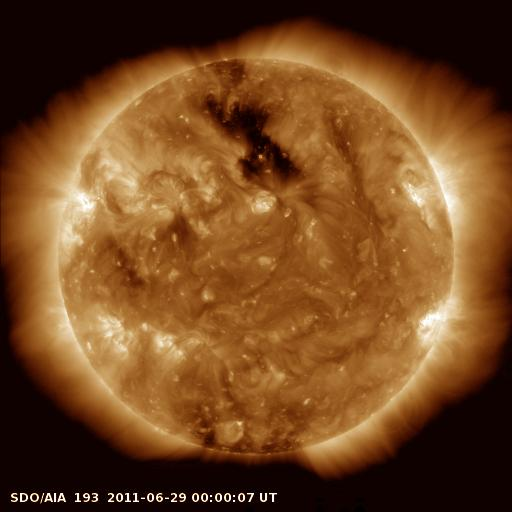coronal_hole: (199, 92, 308, 189)
